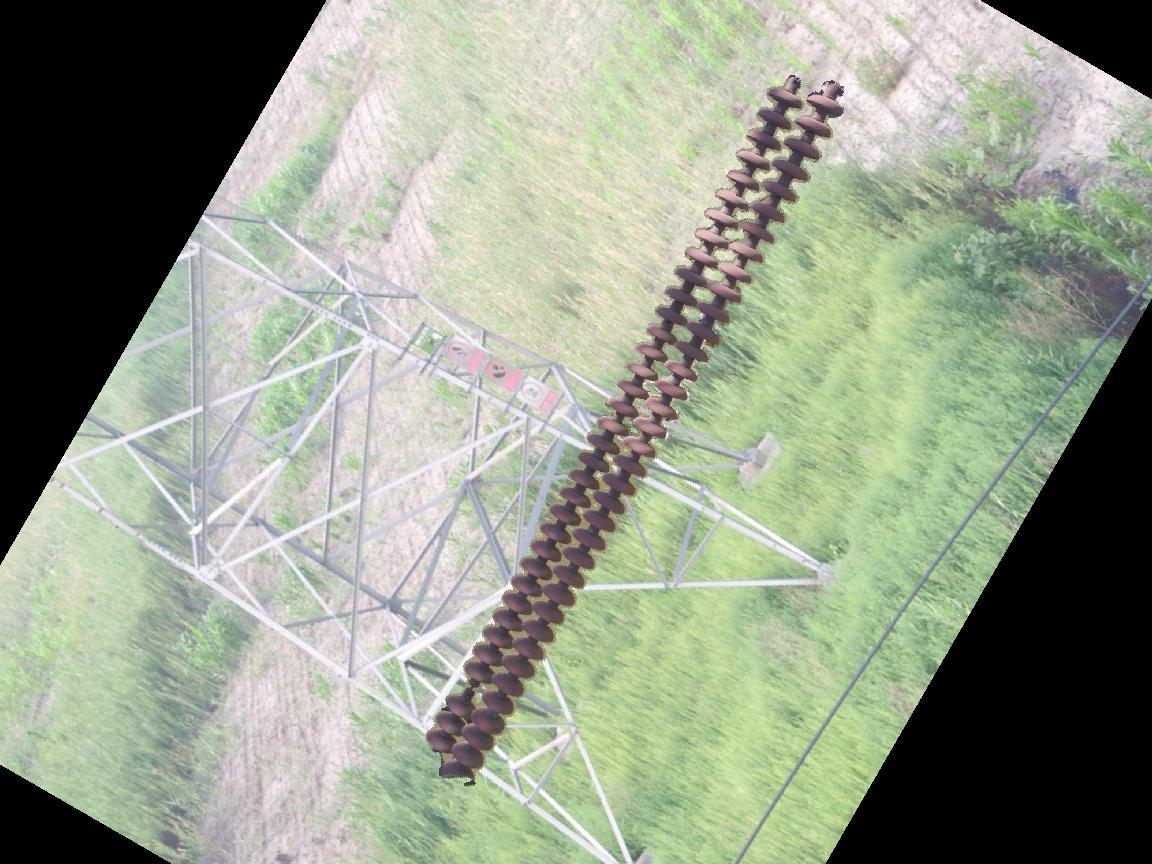insulator: (416, 81, 848, 782)
insulator_stringdrop: (442, 659, 497, 721)
